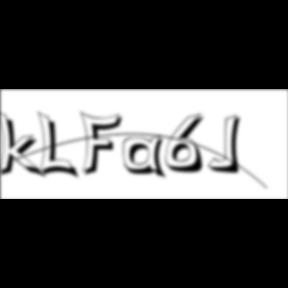6: (166, 112, 210, 176)
F: (80, 110, 128, 178)
J: (208, 114, 248, 176)
L: (38, 110, 82, 182)
a: (123, 135, 171, 182)
k: (0, 108, 48, 181)
